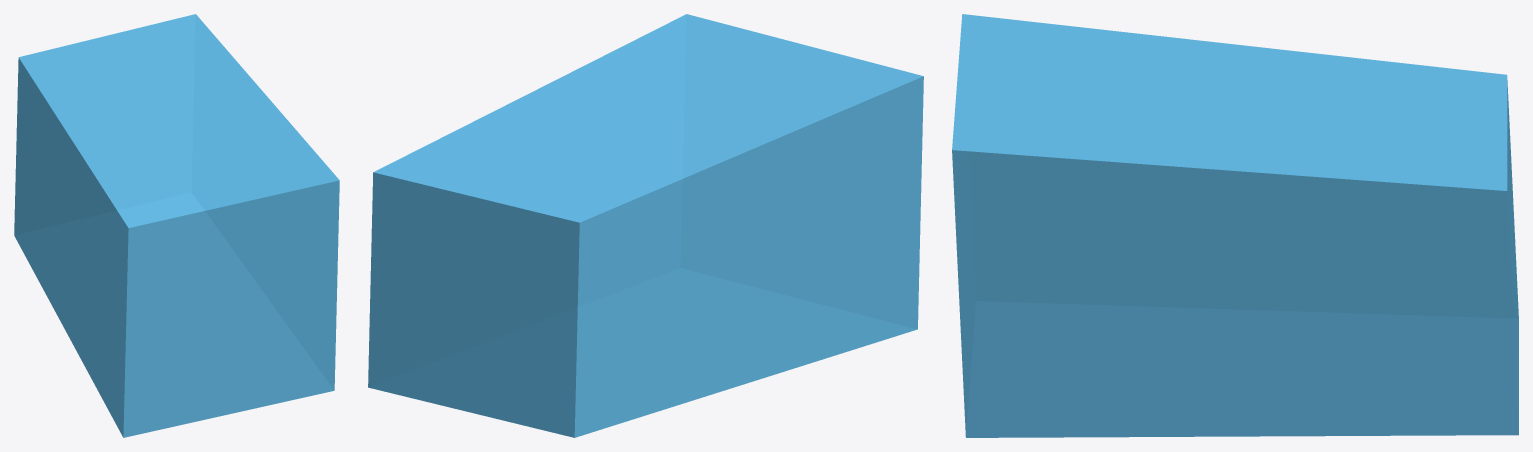
Rendered from Event_420604493_HBrechit_6.fbx.
3 views of the same model, side by side, from view 1: azimuth 30°, elevation 25°; view 2: azimuth 150°, elevation 25°; view 3: azimuth 270°, elevation 25° (orthographic). The views are drawn at different scales.
Visible parts, largest first — view 1: Model; view 2: Model; view 3: Model.
Boxes of the visible parts, bbox=[...] form: Model: bbox=[14, 14, 339, 437]; Model: bbox=[368, 14, 923, 437]; Model: bbox=[952, 14, 1518, 437].
Size of the model in its own units: 0.6246 by 0.4734 by 0.845.
